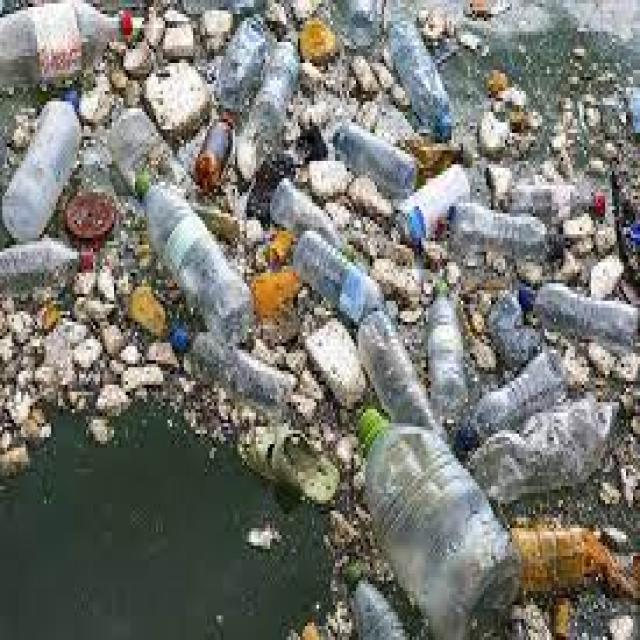litter: (349, 392, 516, 628), (130, 168, 262, 328), (0, 70, 72, 238), (359, 306, 449, 432), (166, 320, 302, 402), (390, 22, 472, 144), (0, 0, 135, 63), (520, 278, 640, 346), (291, 232, 388, 314), (328, 115, 421, 197), (452, 194, 548, 258), (0, 241, 91, 300), (261, 29, 302, 155), (151, 59, 218, 132), (308, 320, 362, 405), (40, 313, 106, 373), (89, 381, 136, 455)
